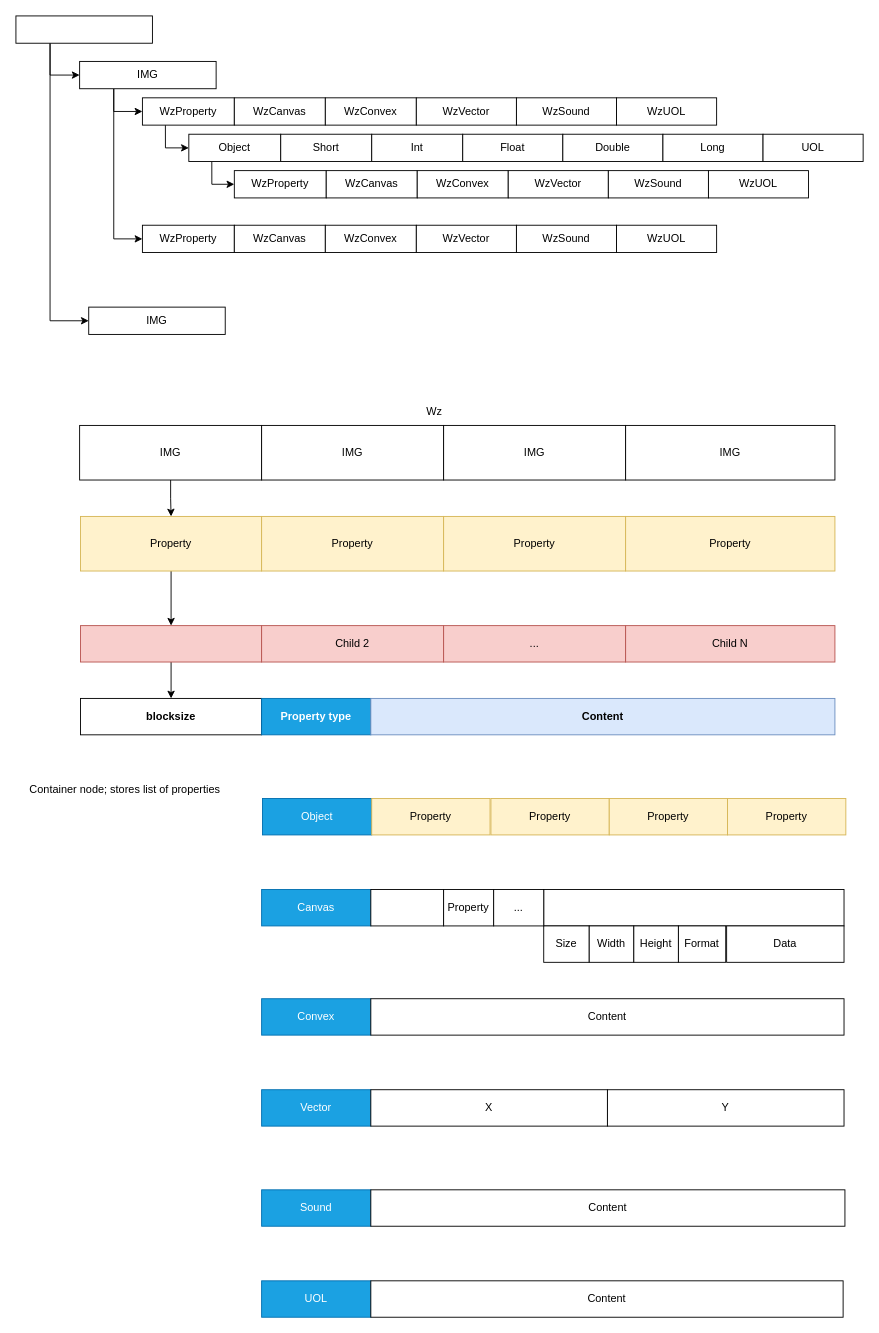
The diagram is 879 pixels wide and 1333 high, and some of its shapes have lost their labels. Here are the shapes that lost their labels. From the top down, the box of each, then its label:
(15, 15, 152, 43): Directory
(80, 625, 262, 662): Child 1
(370, 889, 444, 926): ChildCount
(543, 889, 844, 926): PNG
